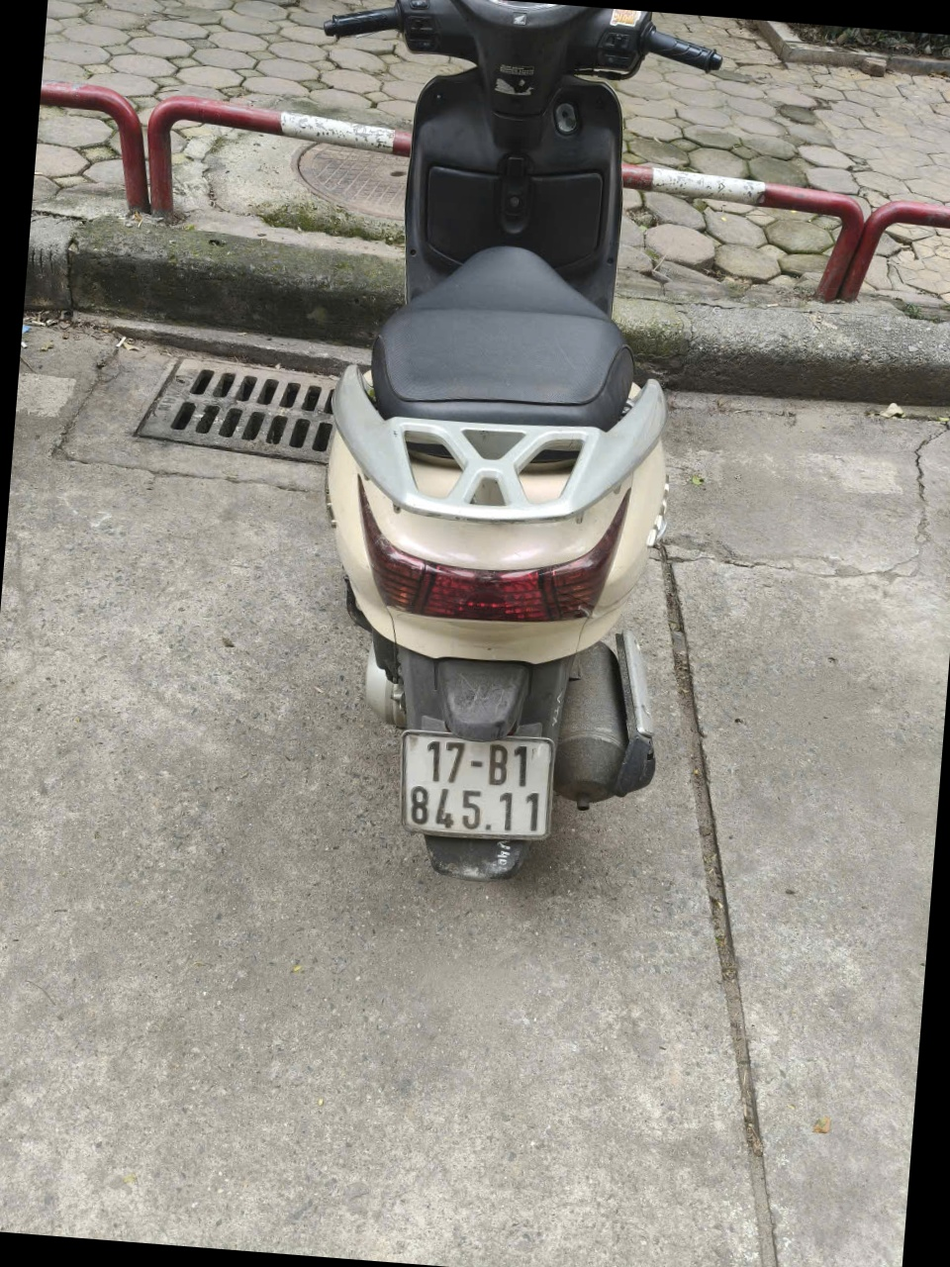plate: (305, 89, 418, 133)
